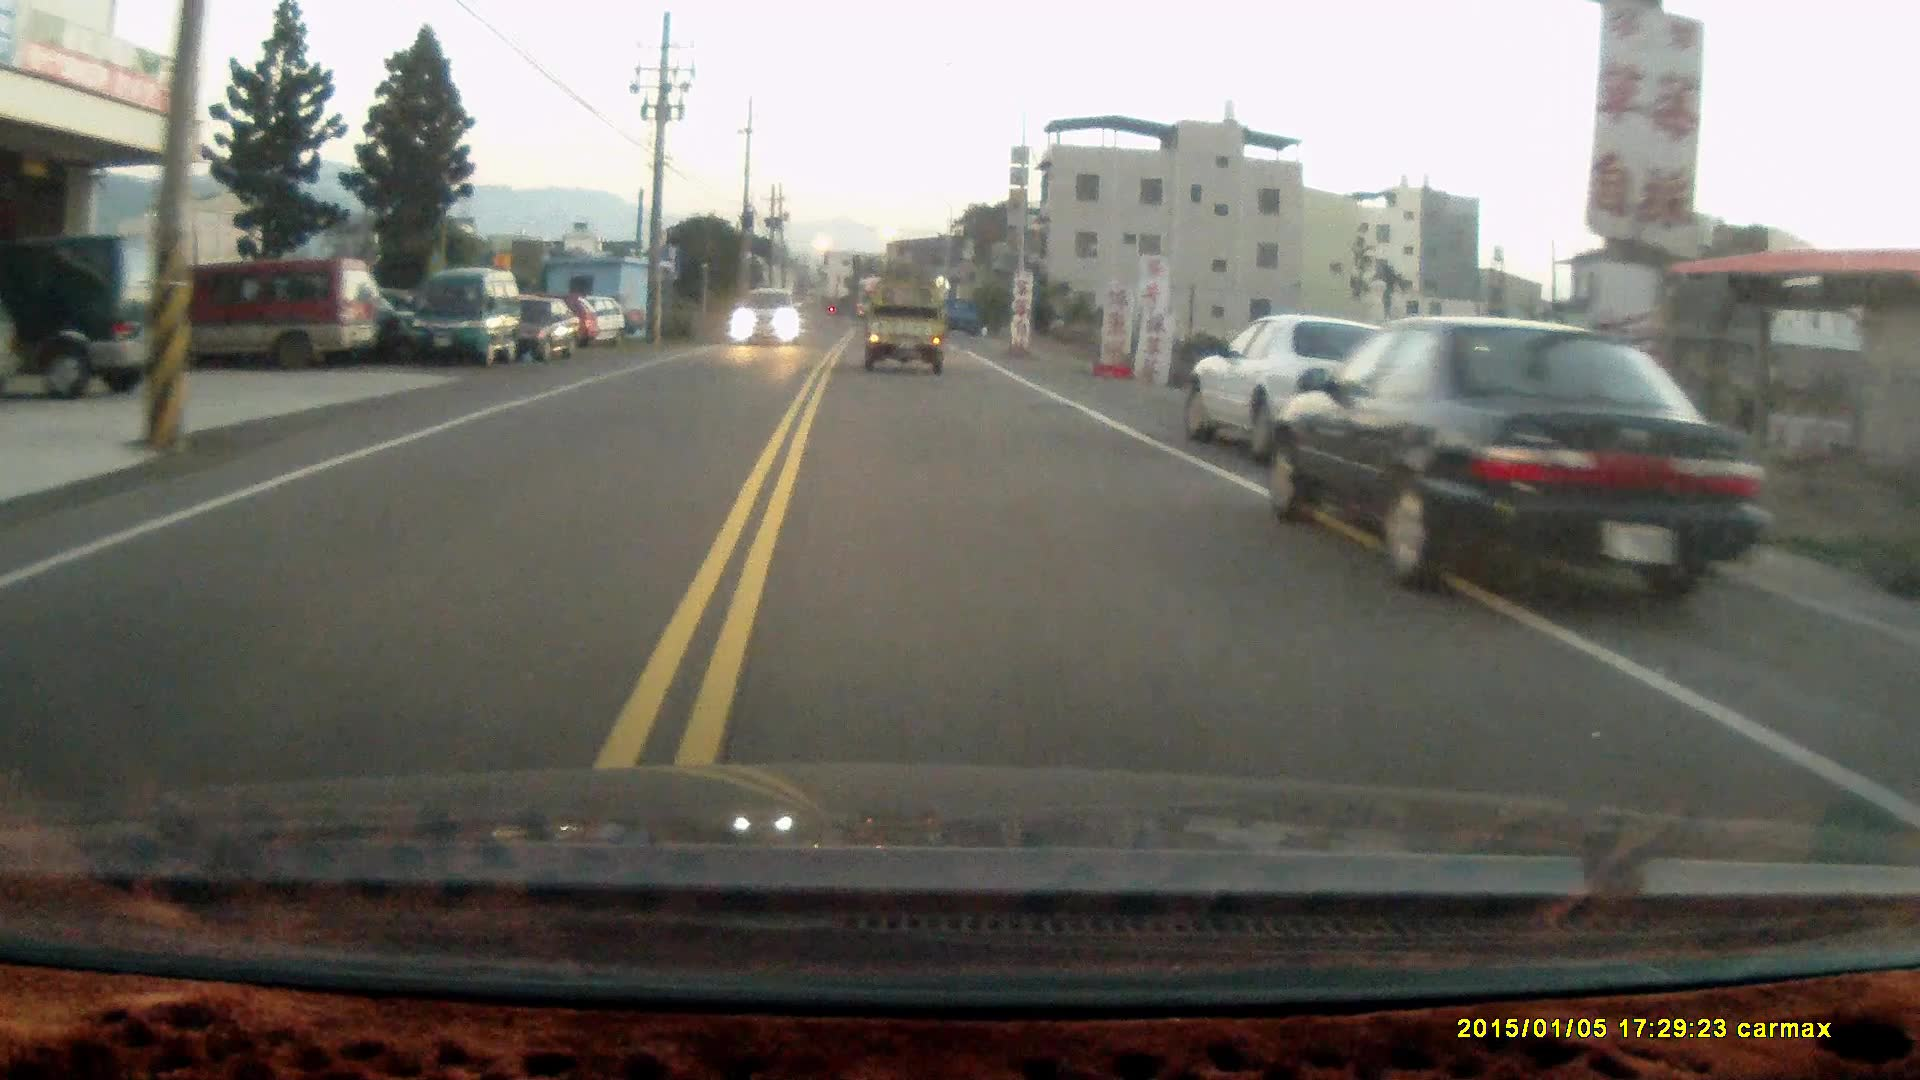vehicle: (1269, 319, 1741, 630), (0, 237, 195, 402), (1187, 316, 1377, 462), (160, 258, 386, 378), (409, 272, 526, 372), (866, 281, 945, 380), (487, 293, 582, 364), (1, 276, 38, 400), (727, 291, 806, 348)
